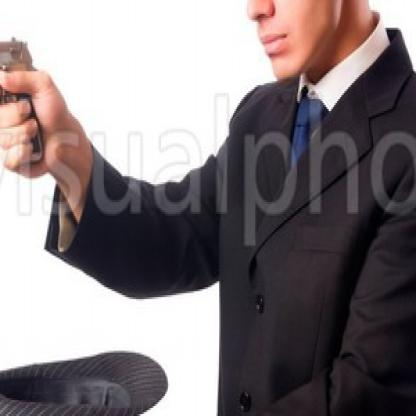gun: (0, 28, 49, 180)
